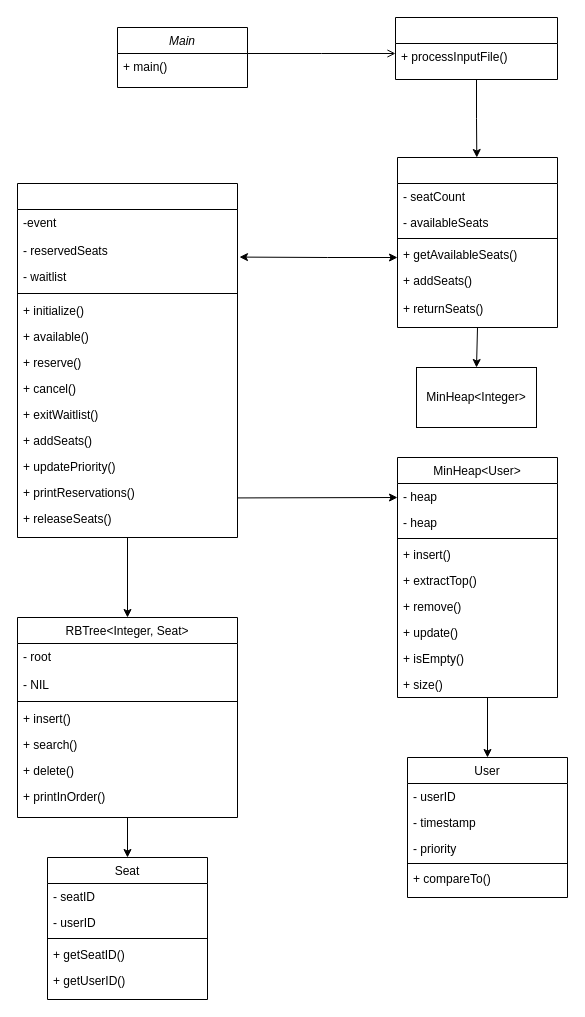
Image size: 585x1017. Some labels were removed from this diagram. The box of each missing label's shape, as (x1, y1, x2, y2) in pixels:
Event: (396, 156, 558, 328)
GatorTicketMaster: (394, 16, 558, 80)
ReservationService: (16, 182, 238, 538)
